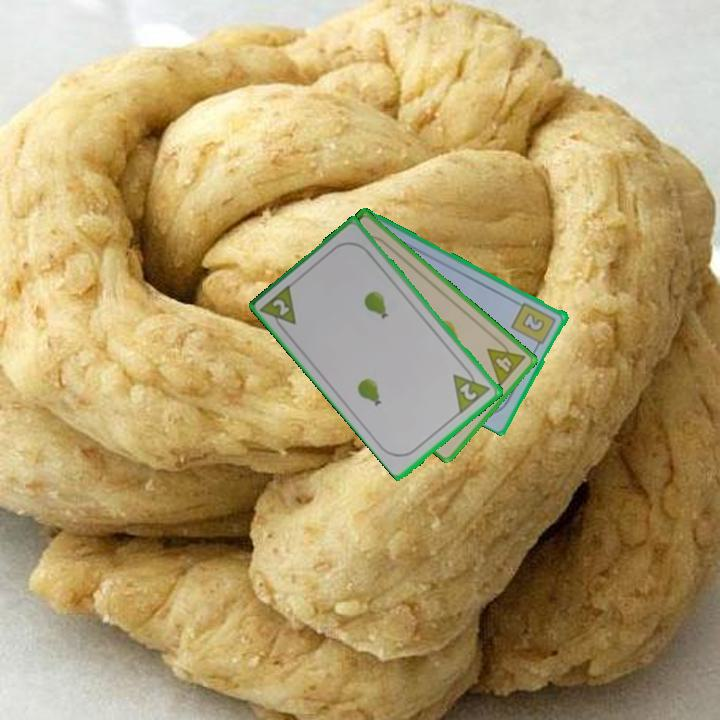2b: (508, 299, 559, 352)
2p: (449, 362, 494, 416), (258, 280, 300, 337)
4p: (483, 334, 528, 389)
